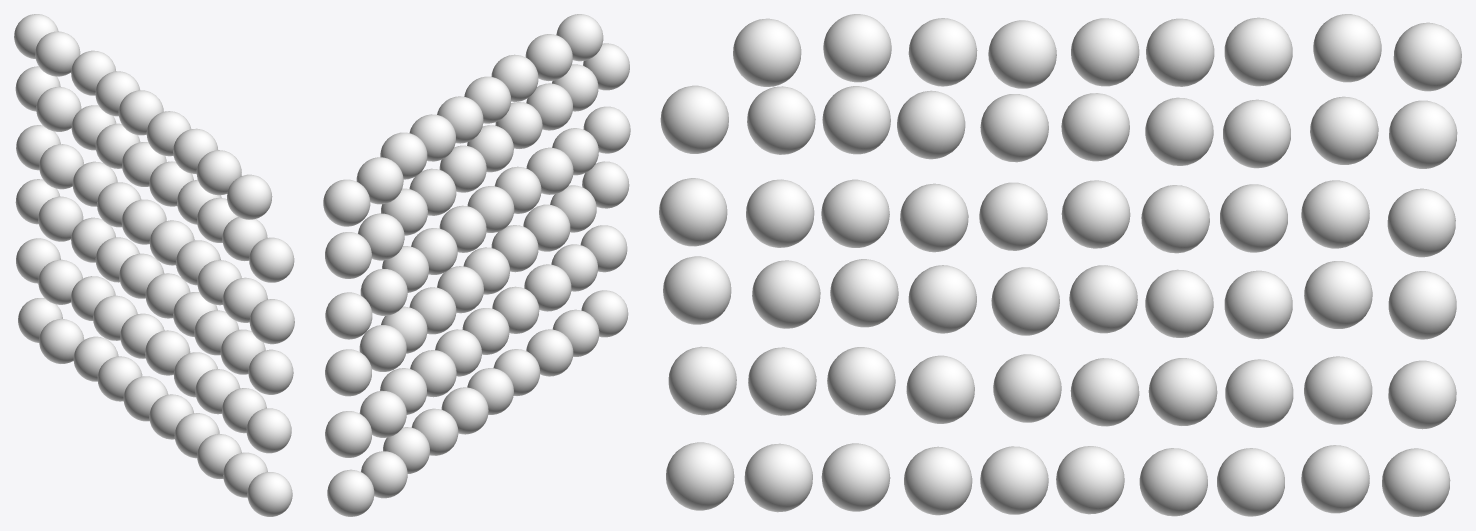
File: Ball_Mdl_001.glb
3 views of the same model, side by side, from view 1: azimuth 30°, elevation 25°; view 2: azimuth 150°, elevation 25°; view 3: azimuth 270°, elevation 25° (orthographic). The views are drawn at different scales.
Parts seen in each view (by area): view 1: 20, 50, 30, 40, 59, 10, 52, 42, 58, 22, 2, 32 (+47 smaller); view 2: 31, 51, 1, 21, 41, 11, 32, 22, 52, 12, 58, 30 (+47 smaller); view 3: 12, 53, 11, 23, 52, 13, 35, 2, 26, 32, 45, 19 (+47 smaller).
Part boxes in pixels (bbox=[...]): 20: bbox=[246, 408, 291, 453]; 50: bbox=[249, 237, 294, 282]; 30: bbox=[248, 349, 293, 394]; 40: bbox=[249, 299, 294, 344]; 59: bbox=[227, 174, 272, 219]; 10: bbox=[247, 472, 292, 516]; 52: bbox=[35, 31, 80, 76]; 42: bbox=[36, 86, 81, 131]; 58: bbox=[196, 150, 241, 195]; 22: bbox=[38, 196, 83, 241]; 2: bbox=[39, 319, 84, 363]; 32: bbox=[39, 144, 84, 189]; 31: bbox=[325, 292, 372, 339]; 51: bbox=[323, 179, 370, 226]; 1: bbox=[327, 469, 374, 516]; 21: bbox=[325, 349, 371, 396]; 41: bbox=[325, 232, 371, 278]; 11: bbox=[325, 411, 371, 457]; 32: bbox=[360, 268, 407, 315]; 22: bbox=[359, 325, 406, 371]; 52: bbox=[356, 157, 403, 204]; 12: bbox=[359, 390, 406, 437]; 58: bbox=[525, 34, 572, 81]; 30: bbox=[582, 161, 629, 208]; 12: bbox=[1304, 356, 1372, 424]; 53: bbox=[1224, 17, 1292, 86]; 11: bbox=[1388, 360, 1456, 429]; 23: bbox=[1224, 270, 1292, 339]; 52: bbox=[1313, 14, 1381, 82]; 13: bbox=[1225, 359, 1293, 427]; 35: bbox=[1061, 180, 1130, 248]; 2: bbox=[1301, 445, 1369, 513]; 26: bbox=[991, 267, 1059, 335]; 32: bbox=[1301, 180, 1369, 248]; 45: bbox=[1061, 93, 1129, 161]; 19: bbox=[748, 347, 816, 415].
Bounding box in the file's own units: 0.1902 × 1.26 × 1.85.
59 materials, 59 textured.
